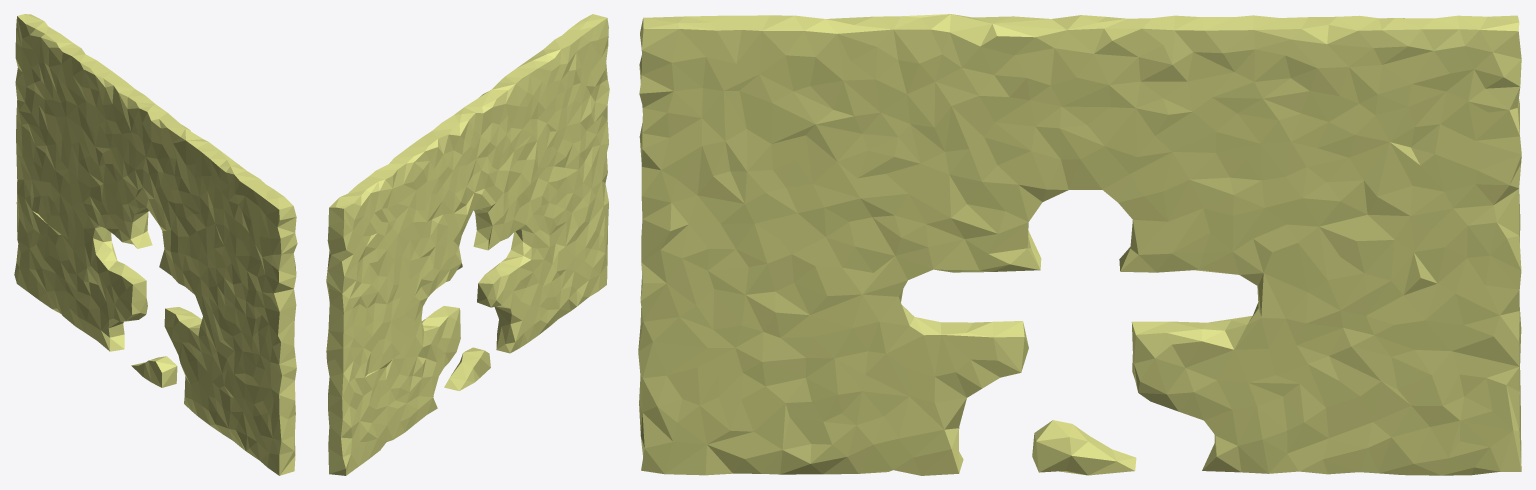
Rendered from Wall2.fbx.
The picture shows the model from 3 angles, left to right: view 1: azimuth 30°, elevation 25°; view 2: azimuth 150°, elevation 25°; view 3: azimuth 270°, elevation 25°; orthographic projection. The views are drawn at different scales.
Parts seen in each view (by area): view 1: FinalWall2; view 2: FinalWall2; view 3: FinalWall2.
Boxes of the visible parts, box(x1,y1,x2,y2) form: FinalWall2: box(14, 14, 297, 475); FinalWall2: box(326, 14, 609, 475); FinalWall2: box(638, 14, 1521, 475).
Size of the model in its own units: 102 by 1207 by 2146.
